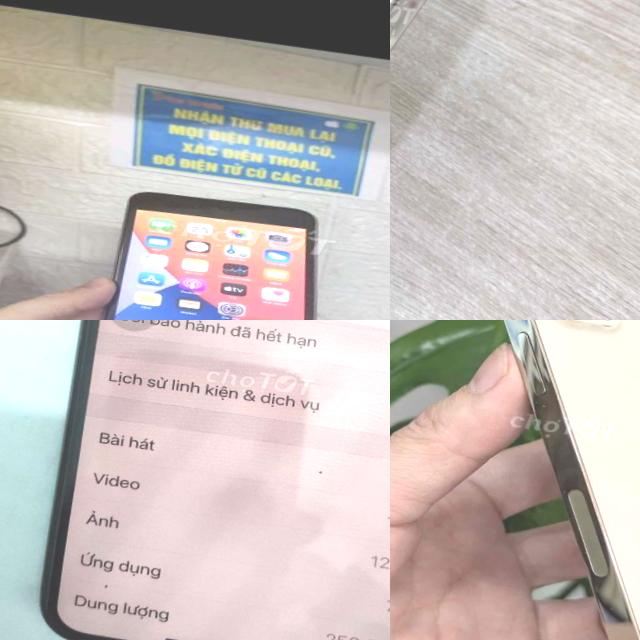gen_11: (7, 320, 390, 640)
gen_14: (390, 0, 543, 298)
gen_16: (398, 320, 640, 640)
gen_6: (81, 179, 360, 320)
